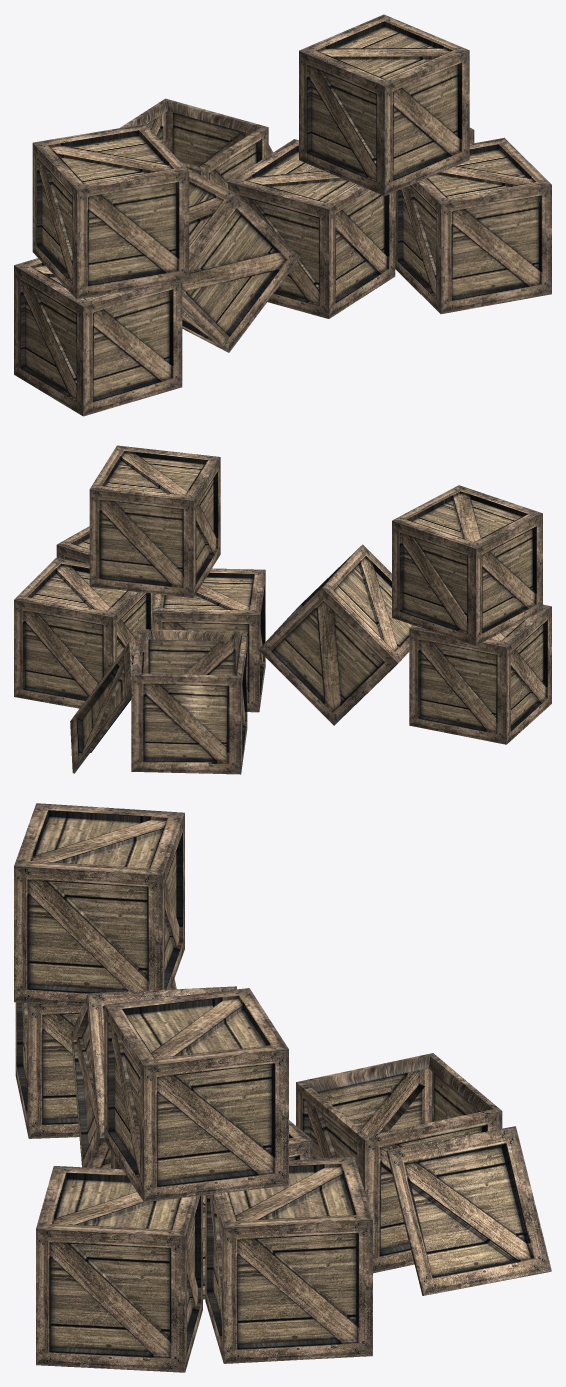
Rendered from caisses.glb.
The picture shows the model from 3 angles, top to bottom: view 1: azimuth 30°, elevation 25°; view 2: azimuth 150°, elevation 25°; view 3: azimuth 270°, elevation 25°; orthographic projection. The views are drawn at different scales.
Parts seen in each view (by area): view 1: caisses_bois; view 2: caisses_bois; view 3: caisses_bois.
Boxes of the visible parts, x1,y1,x2,y2 form: caisses_bois: (14,14,551,416); caisses_bois: (14,445,551,774); caisses_bois: (14,803,551,1372).
Bounding box in the file's own units: 2.67 × 1.14 × 2.
Materials: 1 (1 with a texture image).
